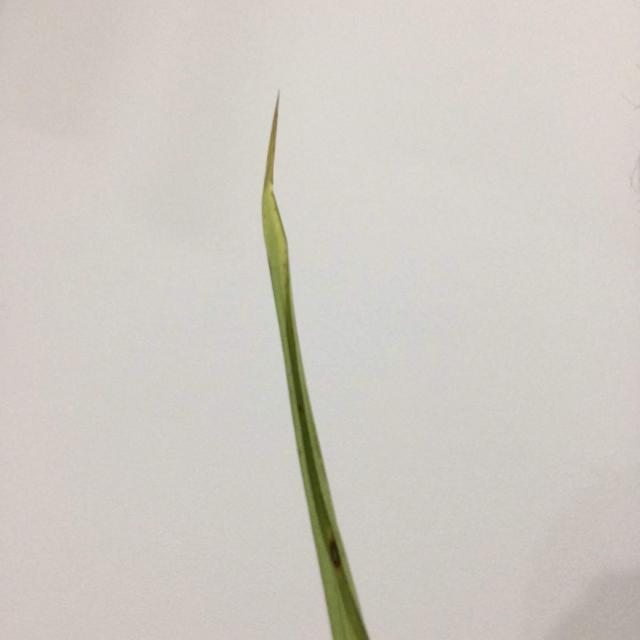Blast: (329, 536, 345, 572)
